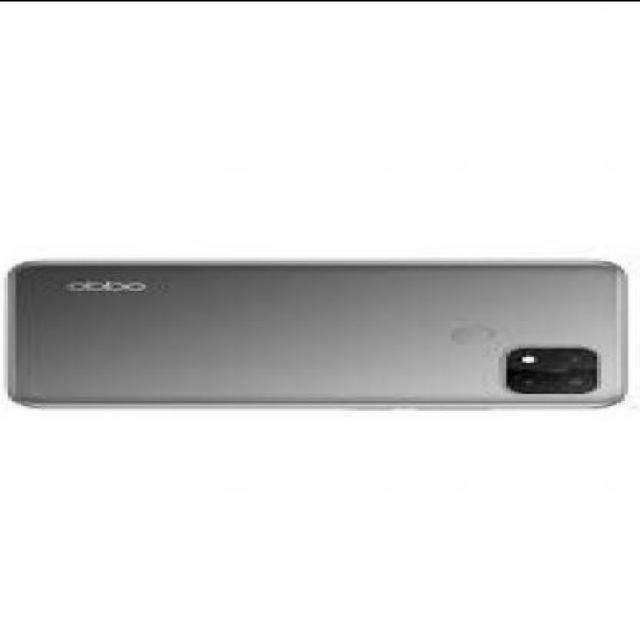fake: (8, 258, 624, 408)
